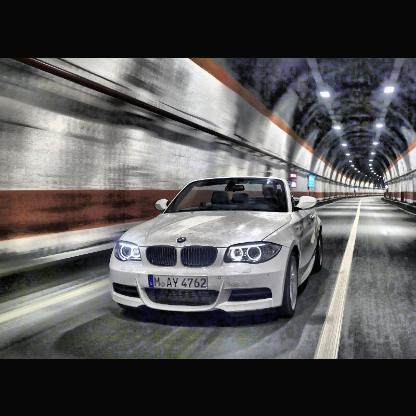BMW 1 Series Convertible 2012: (108, 176, 327, 323)
